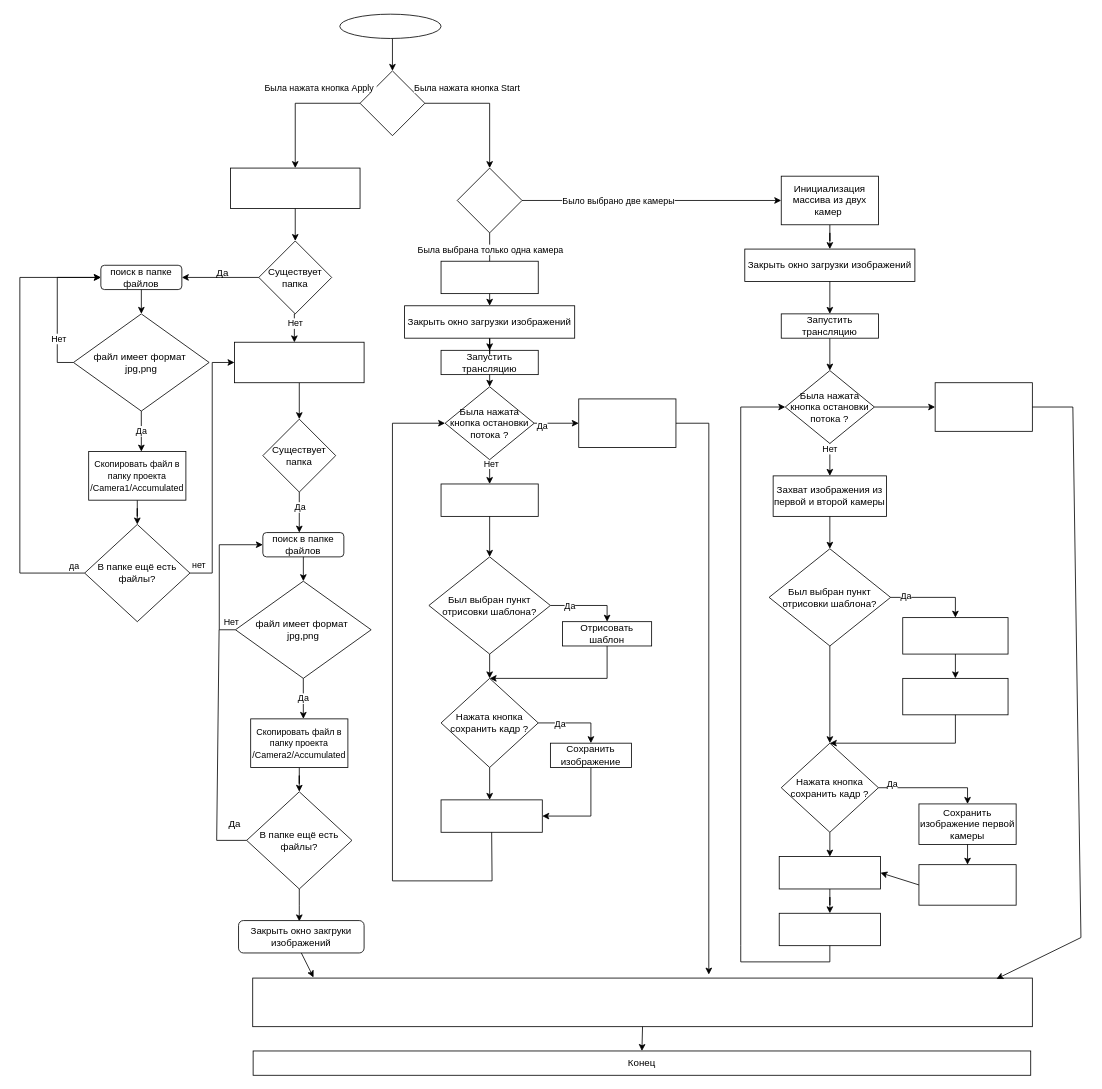
Some shapes in this 1102 by 1089 pixel diagram are drawn without their labels. The centre of each missing label's shape, as x and y in pixels:
"Деинициализация камеры Basler" belongs at point 627,423.
"Деинициализация массива камеры Basler" belongs at point 983,406.
"Захват изображения" belongs at point 489,499.
"Из поля камера1 копируется значение пути к файлам" belongs at point 295,188.
"Из поля камера2 копируется значение пути к файлам" belongs at point 299,362.
"Инициализовать камеру Basler." belongs at point 489,277.
"Обновить пользовательский интерфейс" belongs at point 642,1002.
"Окно с выбором режима загрузки" belongs at point 390,25.
"Отослать в главное окно изображение для просмотра" belongs at point 491,815.
"Отослать в главное окно изображение с первой камеры" belongs at point 829,872.
"Отослать в главное окно изображение со второй камеры" belongs at point 829,929.
"Отрисовать шаблон на второй камере" belongs at point 955,696.
"Отрисовать шаблон на первокй камере" belongs at point 955,635.
"Сохранить изображение второй камеры" belongs at point 967,884.
